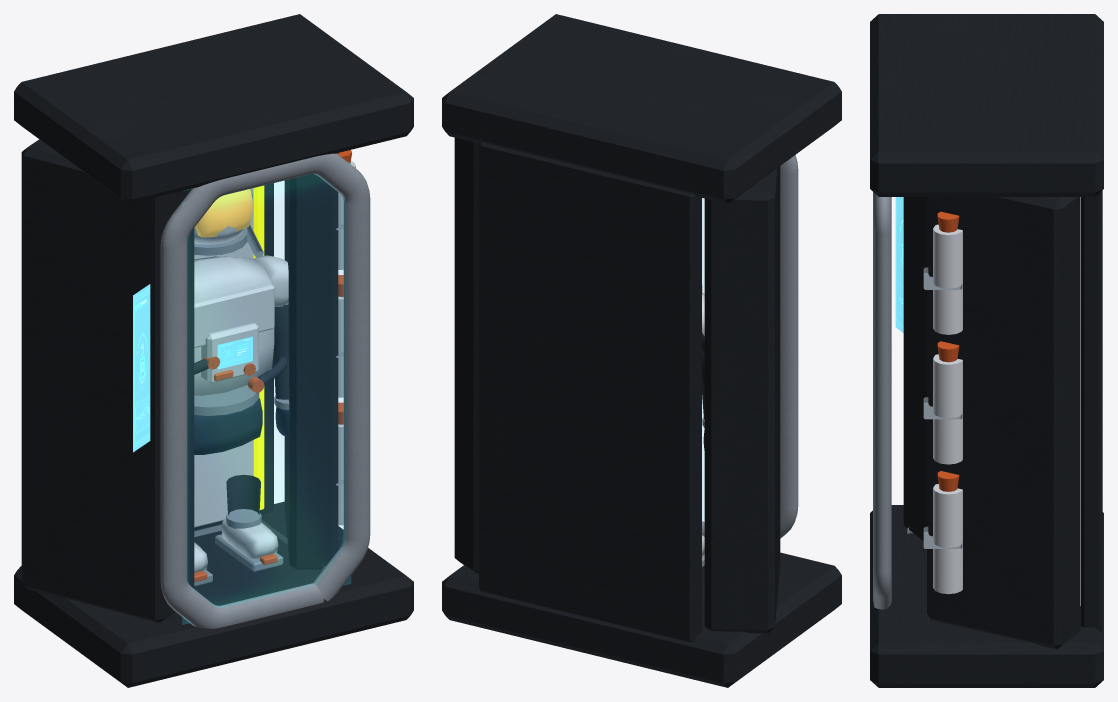
File: locker_r1_05.glb
The picture shows the model from 3 angles, left to right: view 1: azimuth 30°, elevation 25°; view 2: azimuth 150°, elevation 25°; view 3: azimuth 270°, elevation 25°; orthographic projection.
Visible parts, largest first — view 1: Locker05_AngledWedgeGunmetalChassis, Locker05_MachinedBezelAndTankClamps, Locker05_CenterTranslucentGlassDoor, EVAKit_WhiteHelmetAndTorsoArmor, Locker05_WhiteLinerAndO2Bottles, EVAKit_MachinedGantryRingsAndSoles, EVAKit_OrbitalNavySuitLayers, EVAKit_BallisticCharcoalSleevesAndHoses, Locker05_LeftWingOLEDTerminal, EVAKit_GoldIridiumBubbleVisor, Locker05_TacticalAmberBacklightLED, EVAKit_SignalOrangeValvesAndCouplings (+1 smaller); view 2: Locker05_AngledWedgeGunmetalChassis, Locker05_MachinedBezelAndTankClamps; view 3: Locker05_AngledWedgeGunmetalChassis, Locker05_WhiteLinerAndO2Bottles, Locker05_MachinedBezelAndTankClamps, Locker05_LeftWingOLEDTerminal, Locker05_SignalOrangeTankValves.
Boxes of the visible parts, bbox=[...] form: Locker05_AngledWedgeGunmetalChassis: bbox=[14, 14, 413, 687]; Locker05_MachinedBezelAndTankClamps: bbox=[160, 153, 370, 628]; Locker05_CenterTranslucentGlassDoor: bbox=[183, 162, 350, 624]; EVAKit_WhiteHelmetAndTorsoArmor: bbox=[194, 226, 288, 572]; Locker05_WhiteLinerAndO2Bottles: bbox=[194, 161, 355, 527]; EVAKit_MachinedGantryRingsAndSoles: bbox=[194, 188, 289, 586]; EVAKit_OrbitalNavySuitLayers: bbox=[194, 398, 289, 454]; EVAKit_BallisticCharcoalSleevesAndHoses: bbox=[194, 305, 289, 514]; Locker05_LeftWingOLEDTerminal: bbox=[133, 284, 150, 452]; EVAKit_GoldIridiumBubbleVisor: bbox=[195, 189, 252, 237]; Locker05_TacticalAmberBacklightLED: bbox=[253, 185, 264, 509]; EVAKit_SignalOrangeValvesAndCouplings: bbox=[194, 356, 277, 581]; Locker05_AngledWedgeGunmetalChassis: bbox=[442, 14, 841, 687]; Locker05_MachinedBezelAndTankClamps: bbox=[702, 155, 798, 538]; Locker05_AngledWedgeGunmetalChassis: bbox=[870, 14, 1103, 687]; Locker05_WhiteLinerAndO2Bottles: bbox=[933, 197, 1080, 605]; Locker05_MachinedBezelAndTankClamps: bbox=[873, 192, 962, 609]; Locker05_LeftWingOLEDTerminal: bbox=[895, 197, 903, 332]; Locker05_SignalOrangeTankValves: bbox=[937, 211, 959, 491].
Bounding box in the file's own units: 1.34 × 2.15 × 0.85.
11 materials, 11 textured.
